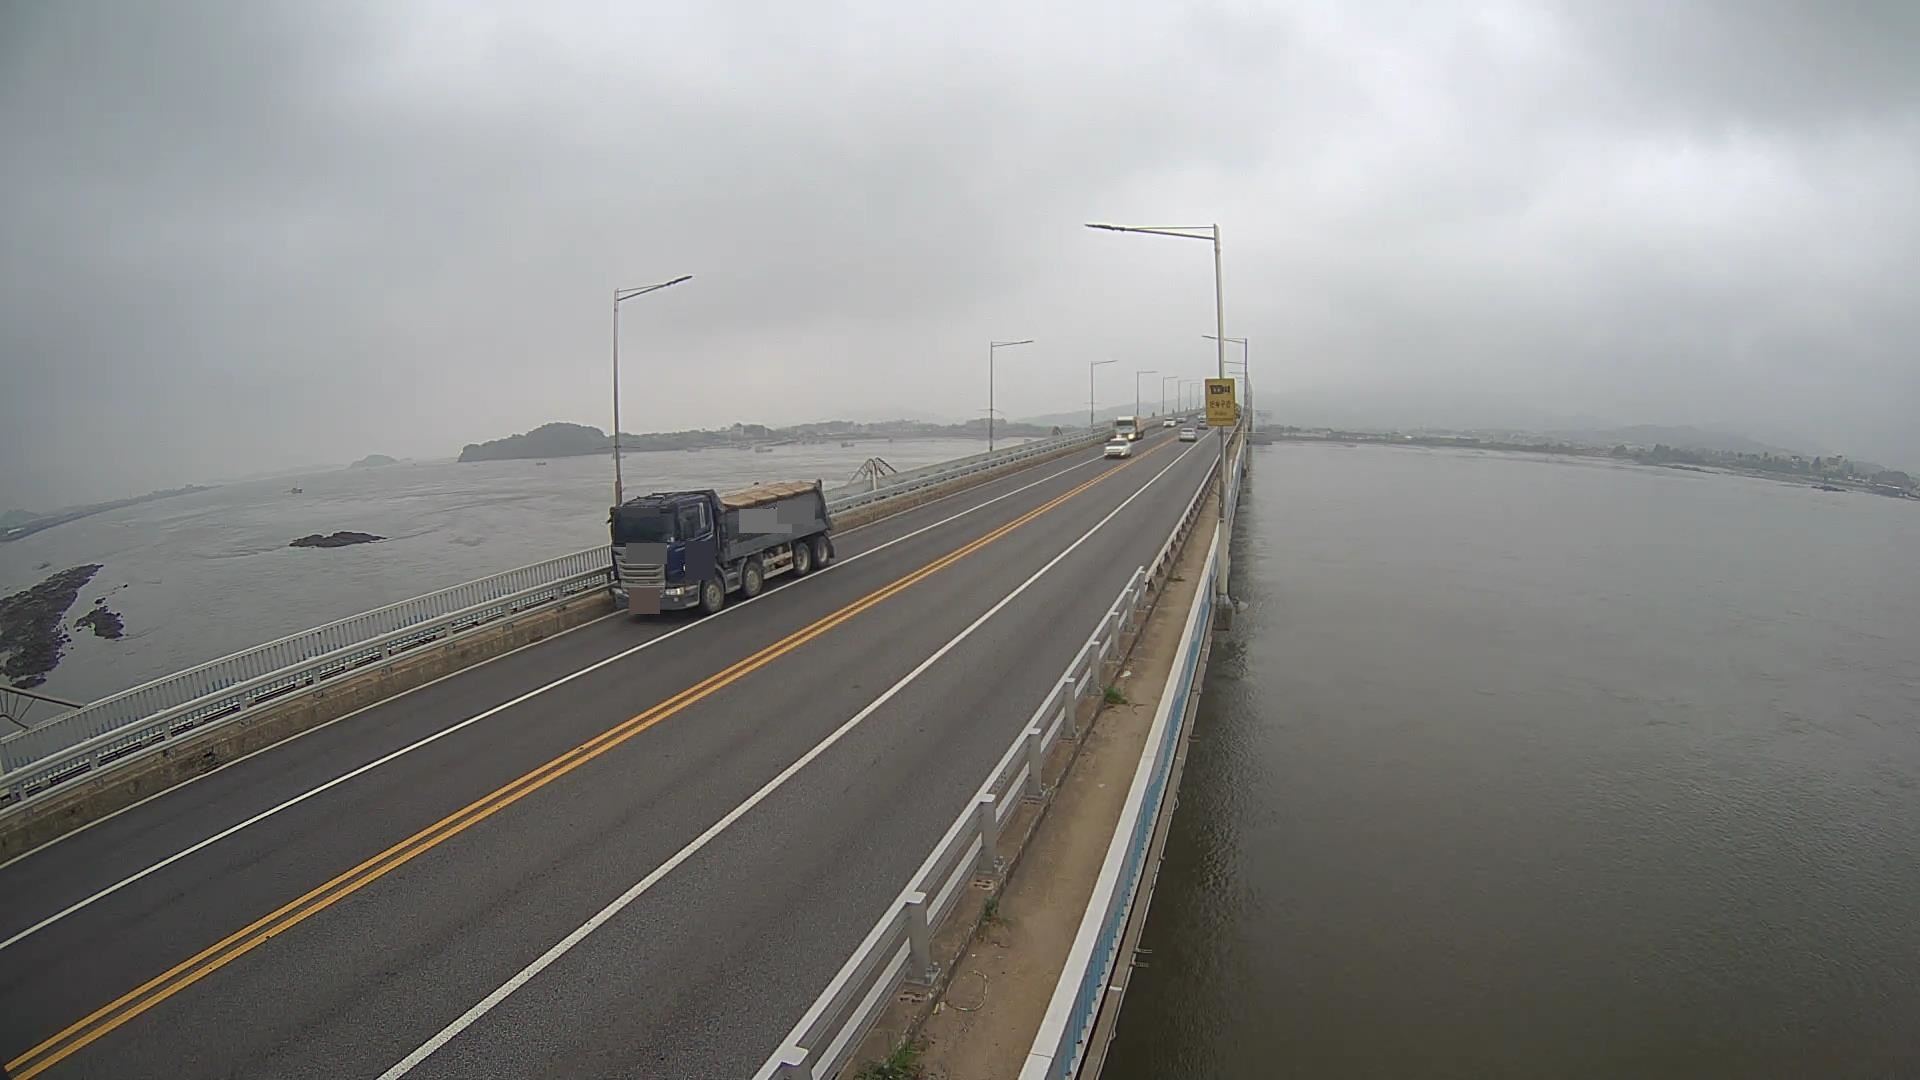정상차량: (605, 479, 835, 613)
